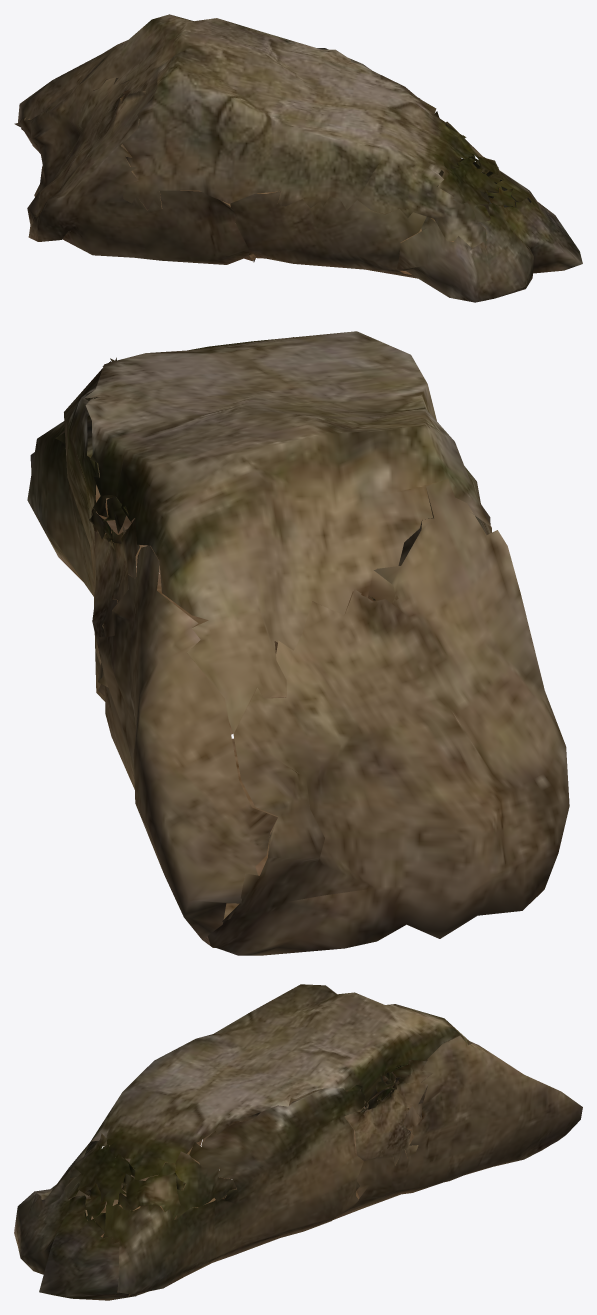
The model's file is rock_moss_set_01_2.glb.
3 views of the same model, one above another, from view 1: azimuth 30°, elevation 25°; view 2: azimuth 150°, elevation 25°; view 3: azimuth 270°, elevation 25° (orthographic). The views are drawn at different scales.
Parts seen in each view (by area): view 1: rock_moss_set_01_rock02; view 2: rock_moss_set_01_rock02; view 3: rock_moss_set_01_rock02.
Part boxes in pixels (left/top/right/bottom): rock_moss_set_01_rock02: left=14, top=14, right=582, bottom=302; rock_moss_set_01_rock02: left=27, top=331, right=569, bottom=955; rock_moss_set_01_rock02: left=14, top=984, right=582, bottom=1300.
Bounding box in the file's own units: 2.65 × 1.25 × 3.27.
1 material, 1 textured.
